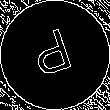P_S: (29, 25, 81, 85)
